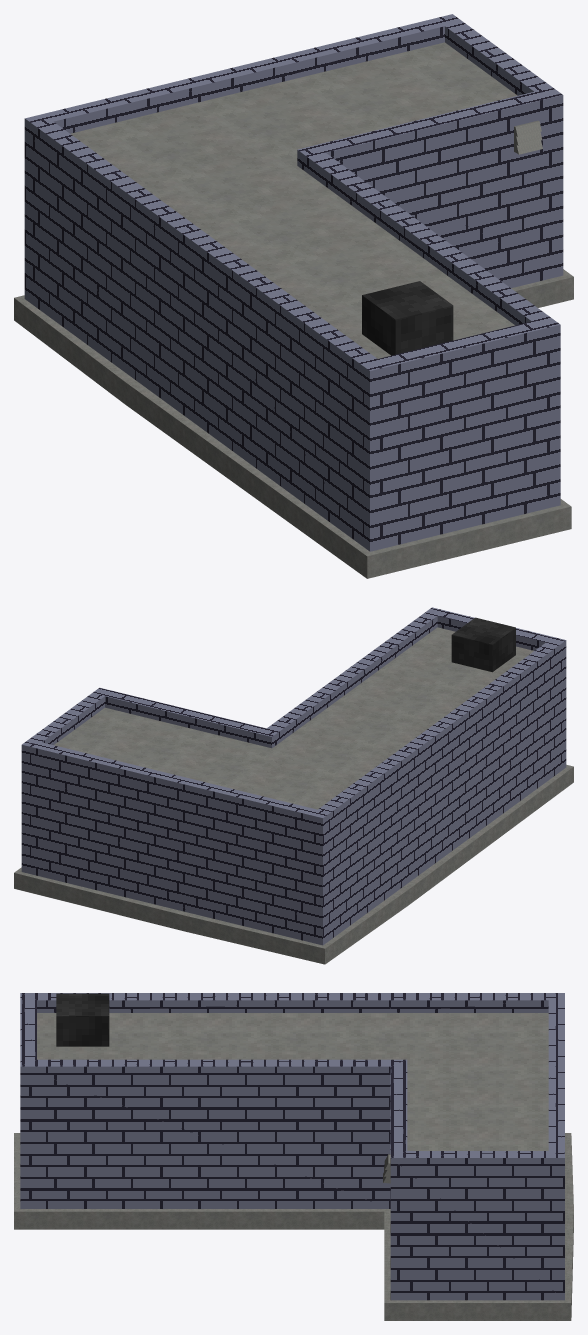
File: LshapedHouseNew.fbx
The picture shows the model from 3 angles, top to bottom: view 1: azimuth 30°, elevation 25°; view 2: azimuth 150°, elevation 25°; view 3: azimuth 270°, elevation 25°; orthographic projection. The views are drawn at different scales.
Parts seen in each view (by area): view 1: Cube; view 2: Cube; view 3: Cube.
Boxes of the visible parts, x1=… form: Cube: x1=14, y1=14, x2=573, y2=578; Cube: x1=14, y1=607, x2=573, y2=964; Cube: x1=14, y1=993, x2=573, y2=1320.
Size of the model in its own units: 466 by 645 by 227.
